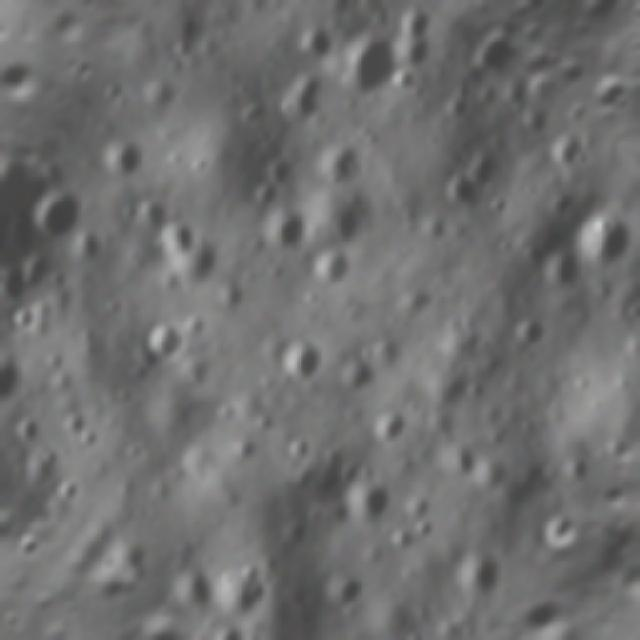crater: (424, 132, 508, 215), (334, 26, 409, 102), (537, 118, 614, 191), (24, 179, 88, 243), (336, 468, 398, 532), (447, 538, 511, 599), (572, 206, 633, 268), (160, 557, 222, 618), (136, 309, 196, 369), (315, 557, 373, 615), (310, 238, 365, 296), (314, 136, 372, 190), (274, 330, 329, 385), (271, 426, 327, 480), (96, 130, 149, 182), (154, 213, 206, 264), (462, 37, 516, 86), (334, 342, 384, 391), (508, 303, 555, 352), (540, 244, 588, 290), (370, 406, 418, 448), (440, 437, 483, 483), (268, 210, 310, 255), (255, 143, 298, 185), (0, 338, 26, 405), (7, 404, 47, 447), (529, 513, 568, 556), (0, 302, 40, 342), (248, 178, 288, 216), (388, 525, 424, 564), (48, 469, 86, 505), (399, 479, 435, 516), (43, 262, 79, 298), (210, 618, 245, 640), (410, 519, 436, 543), (272, 631, 318, 640), (313, 638, 358, 640)
